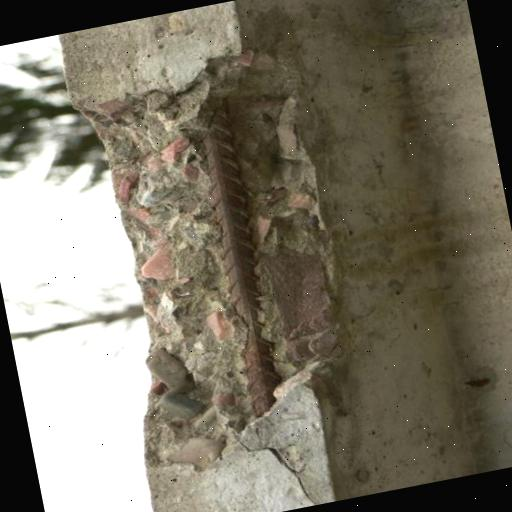spalling: (82, 46, 353, 416)
